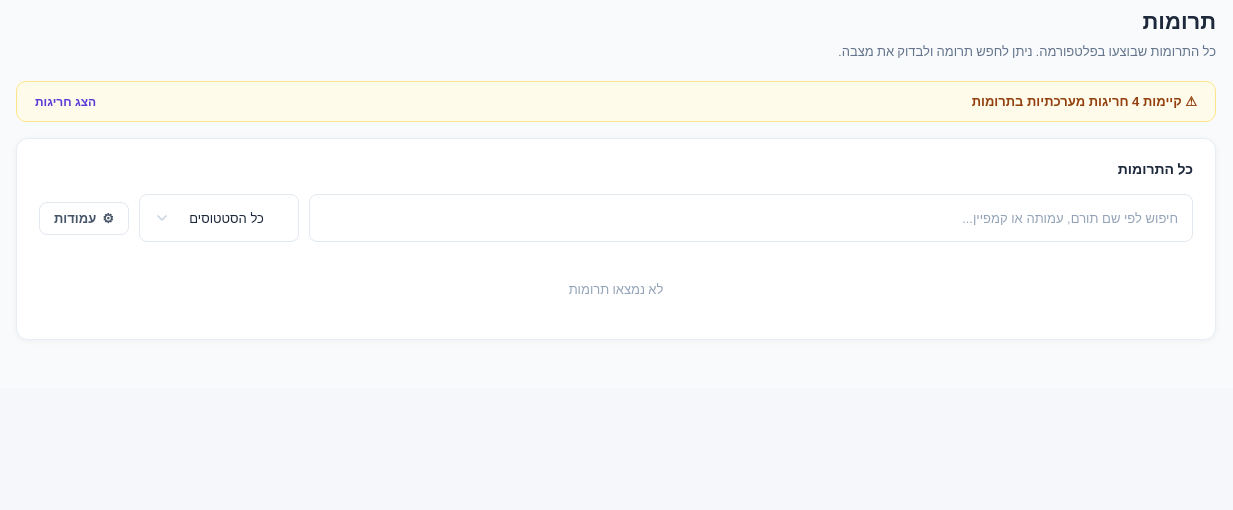
Test case: PlatformCardcomOpsPageComponent - anomaly indicator (honest classification) › shows one compact indicator line naming the total count, collapsed until tapped
Click the button with class "ops-anomaly-bar".
click(1052, 102)  # box [16,81,1216,122]
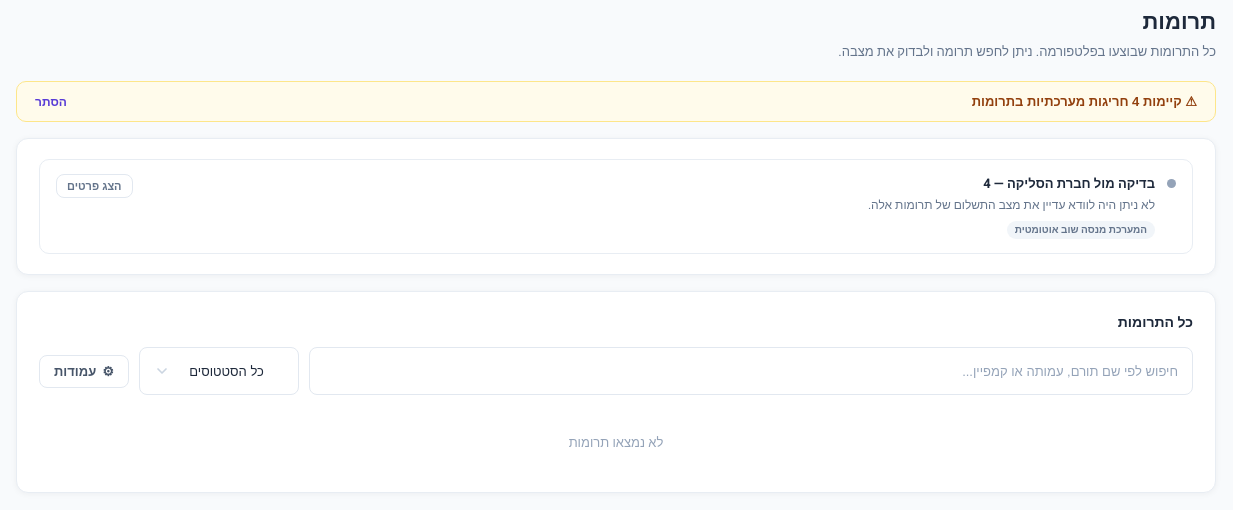
Result: the number of elements with class "ops-group-card" is 1 at [39,159,1193,254]
Result: the element with class "ops-group-card" shows "בדיקה מול חברת הסליקה" at [983,174,1155,193]
Result: the element with class "ops-group-card" shows "4" at [983,174,1155,193]
